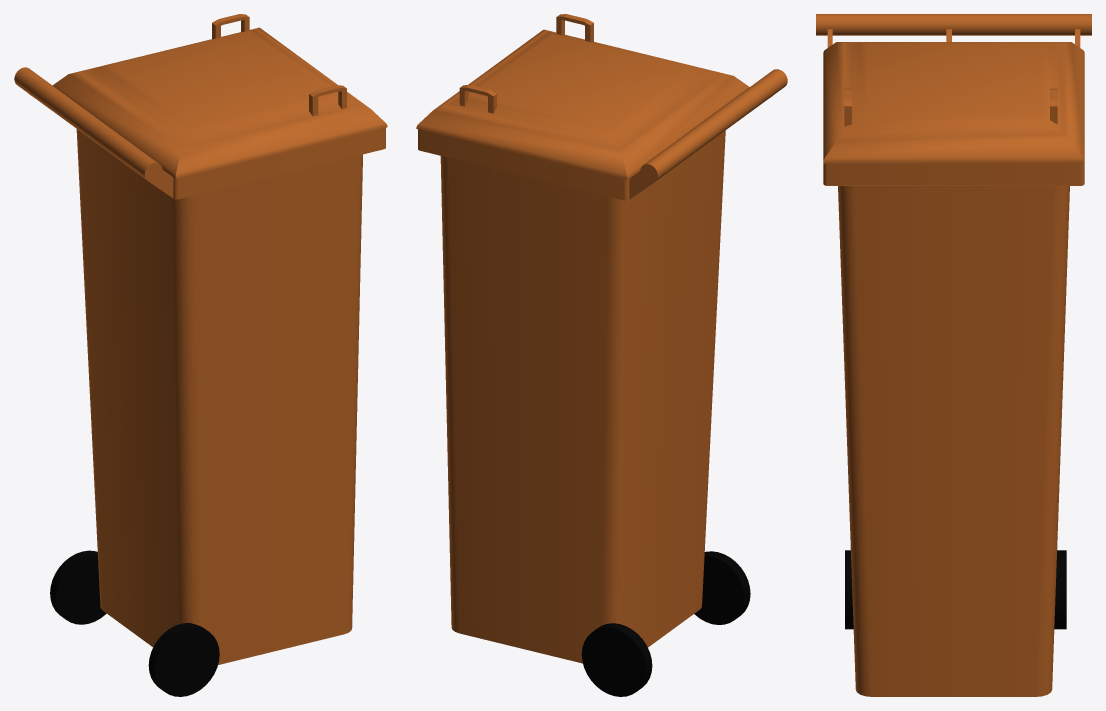
Rendered from trashcanLarge.glb.
3 views of the same model, side by side, from view 1: azimuth 30°, elevation 25°; view 2: azimuth 150°, elevation 25°; view 3: azimuth 270°, elevation 25° (orthographic). The views are drawn at different scales.
Visible parts, largest first — view 1: MuelltonneRoll, MuelltonneRad1, MuelltonneRad2, MuelltonneRollGriff2; view 2: MuelltonneRoll, MuelltonneRad2, MuelltonneRad1; view 3: MuelltonneRoll, MuelltonneRad2, MuelltonneRad1.
Boxes of the visible parts, x1,y1,x2,y2 form: MuelltonneRoll: (14, 27, 387, 664); MuelltonneRad1: (148, 623, 219, 696); MuelltonneRad2: (50, 550, 106, 624); MuelltonneRollGriff2: (309, 85, 346, 116); MuelltonneRoll: (416, 29, 787, 663); MuelltonneRad2: (581, 623, 652, 696); MuelltonneRad1: (694, 551, 750, 624); MuelltonneRoll: (816, 14, 1091, 696); MuelltonneRad2: (1054, 550, 1066, 629); MuelltonneRad1: (845, 550, 853, 629).
Size of the model in its own units: 2.58 by 5.73 by 2.37.
